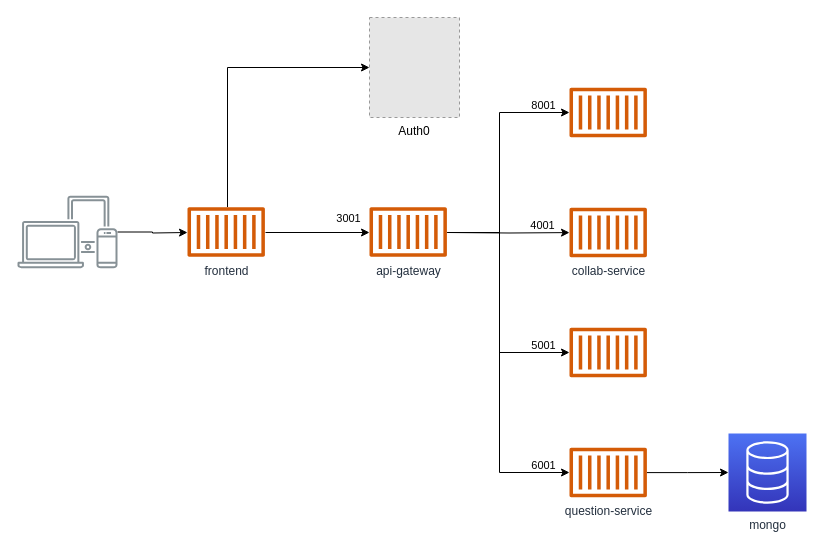
Image size: 824x550. Some labels were removed from this diagram. Grey dashed boxes stand in for pictures. The box of each missing label's shape, as (x1, y1, x2, y2) in pixels:
chat-service: (569, 327, 646, 377)
devices: (17, 195, 117, 268)
matching-service: (569, 87, 646, 137)
